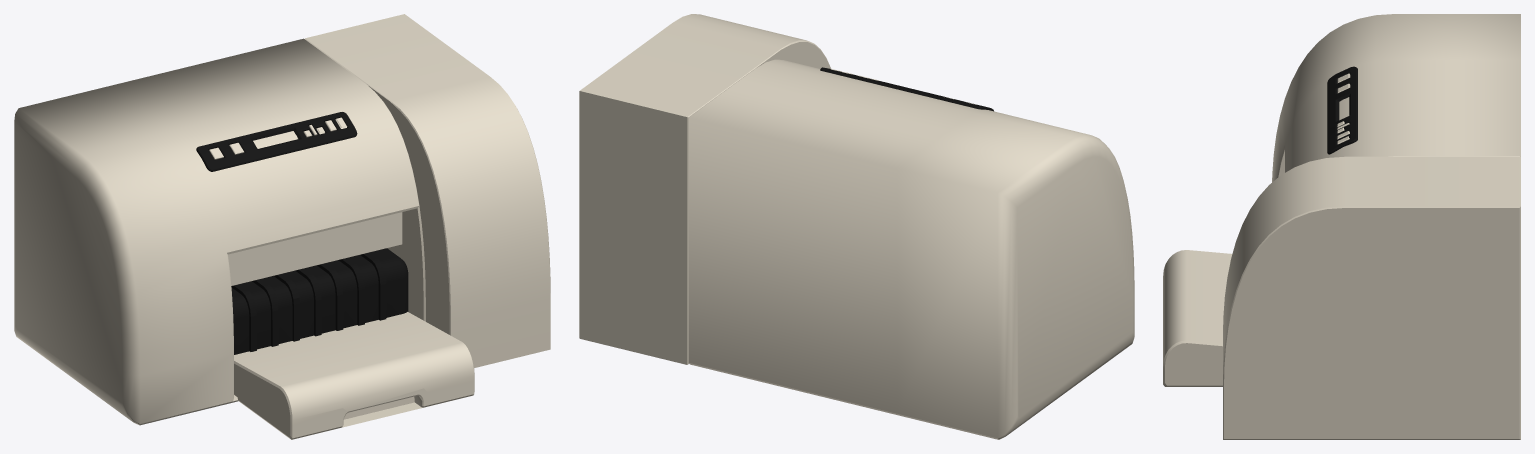
The model's file is Printer.fbx.
3 renders of one model, left to right at view 1: azimuth 30°, elevation 25°; view 2: azimuth 150°, elevation 25°; view 3: azimuth 270°, elevation 25°, orthographic. The views are drawn at different scales.
Visible parts, largest first — view 1: Корпус, Выступ, Механизмы, Панелька; view 2: Корпус, Панелька; view 3: Корпус, Выступ, Панелька.
Boxes of the visible parts, x1,y1,x2,y2 form: Корпус: (14, 14, 550, 425); Выступ: (234, 312, 474, 439); Механизмы: (231, 248, 408, 354); Панелька: (196, 112, 357, 171); Корпус: (579, 14, 1134, 439); Панелька: (820, 67, 993, 111); Корпус: (1223, 14, 1520, 439); Выступ: (1163, 250, 1232, 386); Панелька: (1327, 66, 1357, 154).
Size of the model in its own units: 337 by 186 by 258.
